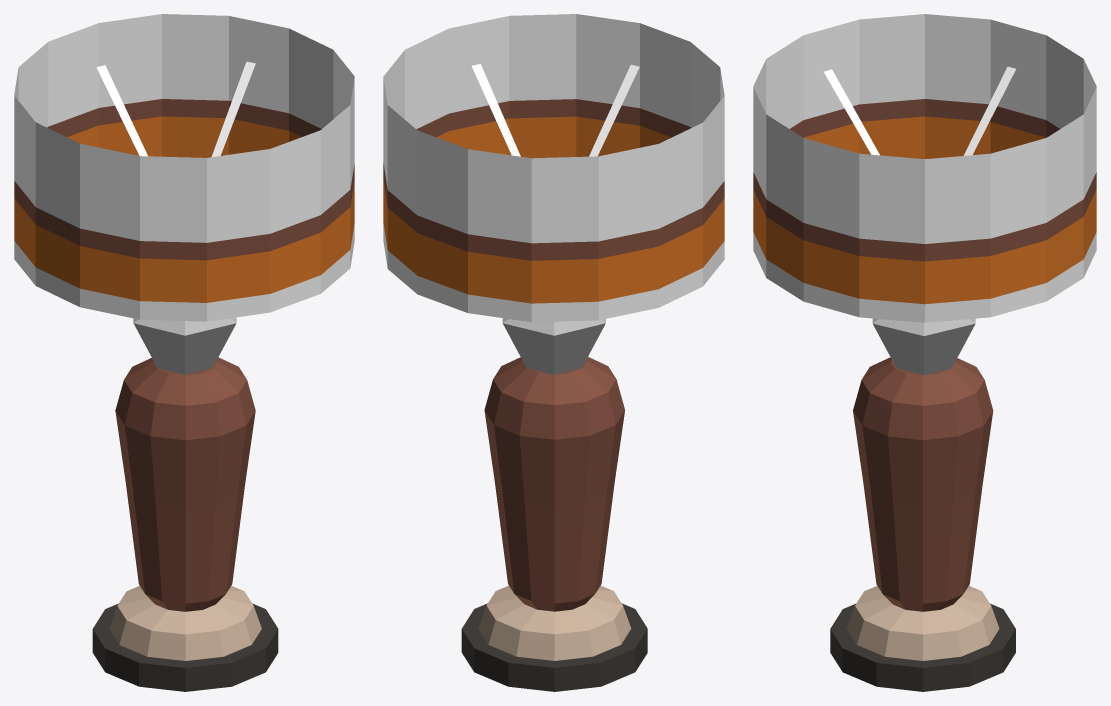
The model's file is SM_Lamp_04.glb.
3 renders of one model, left to right at view 1: azimuth 30°, elevation 25°; view 2: azimuth 150°, elevation 25°; view 3: azimuth 270°, elevation 25°, orthographic.
Parts seen in each view (by area): view 1: SM_Lamp_04; view 2: SM_Lamp_04; view 3: SM_Lamp_04.
Boxes of the visible parts, box(x1,y1,x2,y2) form: SM_Lamp_04: box(14, 14, 354, 691); SM_Lamp_04: box(383, 14, 724, 691); SM_Lamp_04: box(753, 14, 1096, 691).
Bounding box in the file's own units: 0.4131 × 0.7511 × 0.4131.
Materials: 1 (1 with a texture image).
